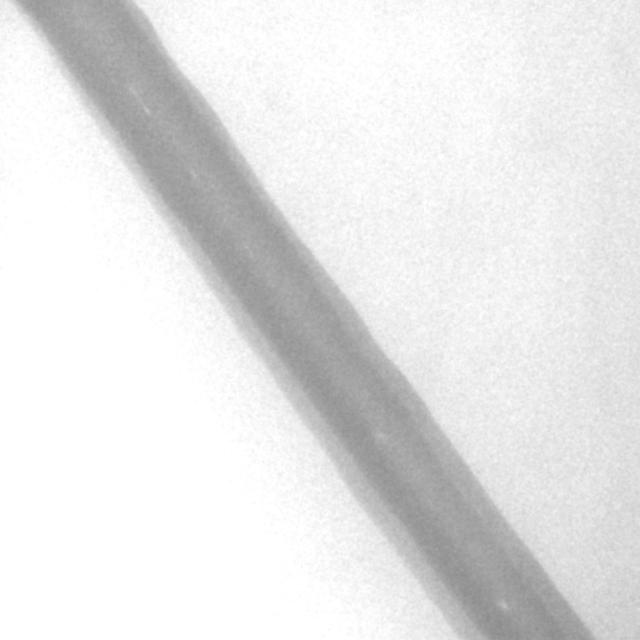air hole: (495, 596, 509, 612)
